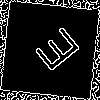E: (25, 25, 82, 80)
